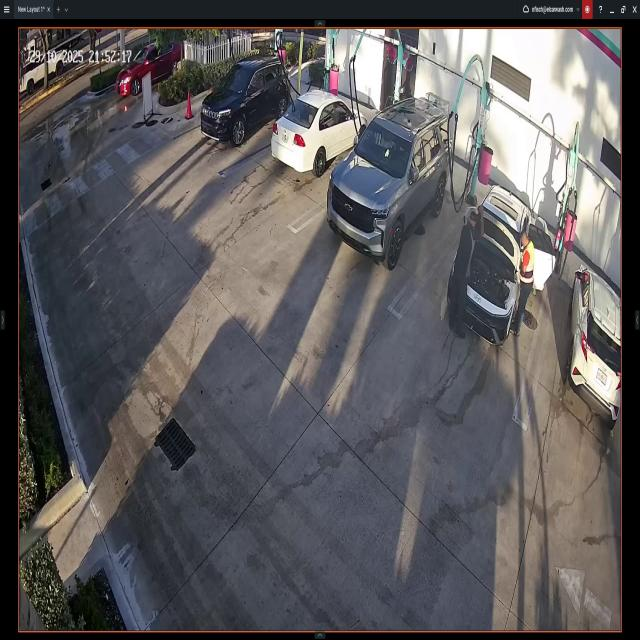Car: (327, 98, 448, 264), (448, 185, 553, 337), (568, 263, 622, 422), (272, 89, 367, 173), (202, 56, 288, 140), (117, 42, 185, 99)
